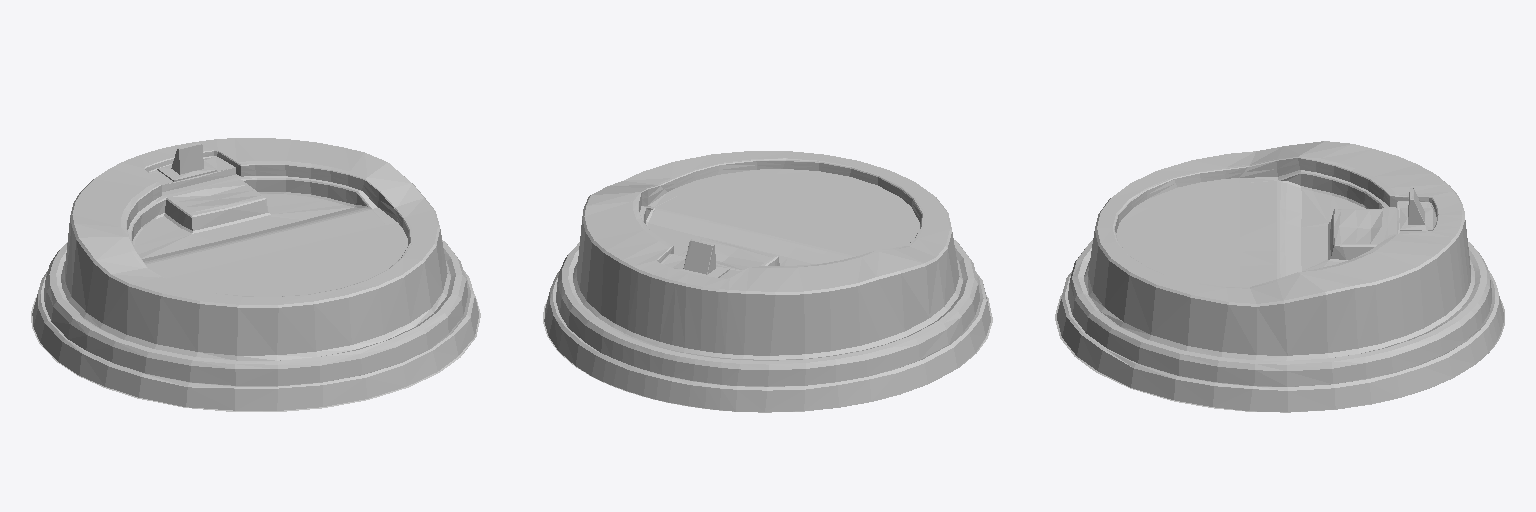
Rendered from papercuptop_01.obj.
The picture shows the model from 3 angles: view 1: azimuth 30°, elevation 25°; view 2: azimuth 150°, elevation 25°; view 3: azimuth 270°, elevation 25°; orthographic projection.
Visible parts, largest first — view 1: papercuptop_01_Plane.024; view 2: papercuptop_01_Plane.024; view 3: papercuptop_01_Plane.024.
Part boxes in pixels (x1,y1,x2,y2): papercuptop_01_Plane.024: (31,138,480,411); papercuptop_01_Plane.024: (543,151,992,412); papercuptop_01_Plane.024: (1055,141,1504,412).
Bounding box in the file's own units: 0.0974 × 0.0295 × 0.0975.